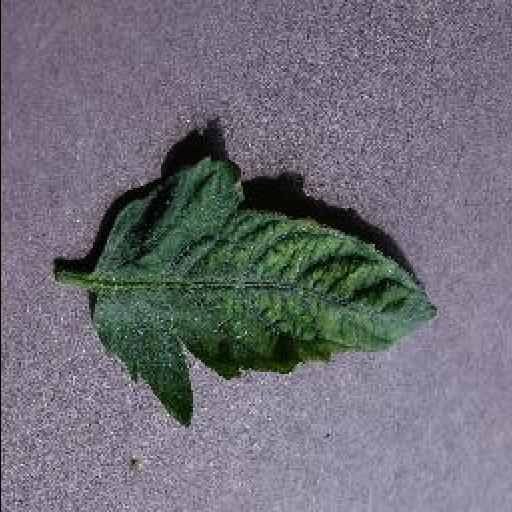Mosaic Virus: (86, 154, 436, 432)
